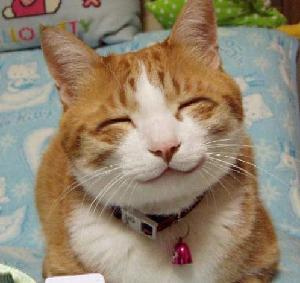cat: (34, 1, 281, 283)
